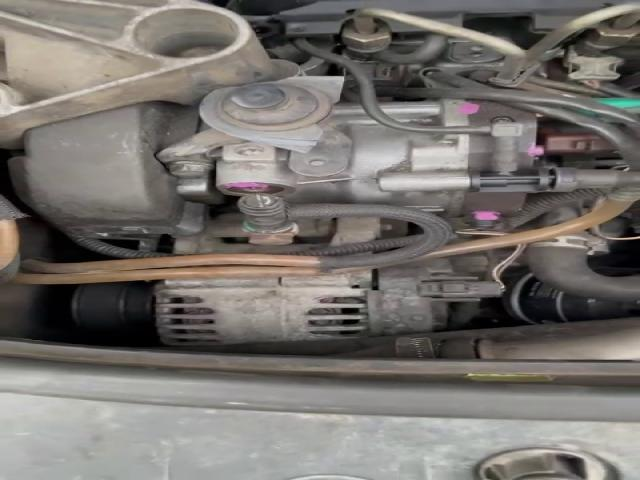alternator: (155, 272, 373, 345)
high_pressure_pump: (214, 98, 552, 228)
